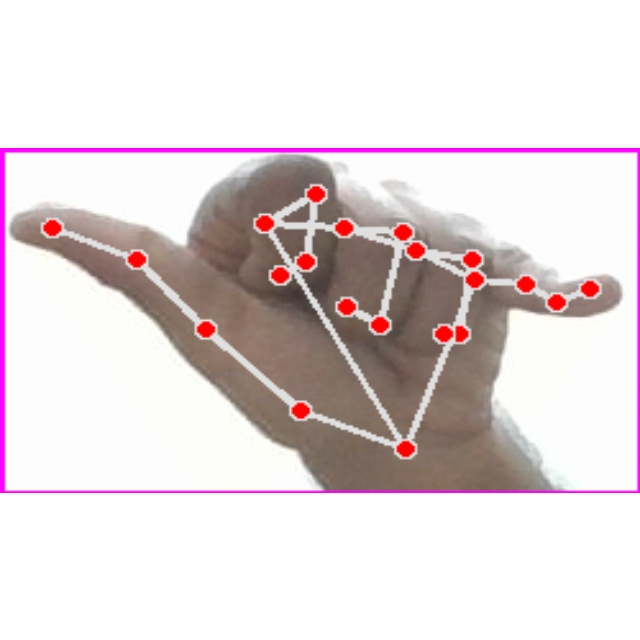Y: (0, 148, 640, 493)
